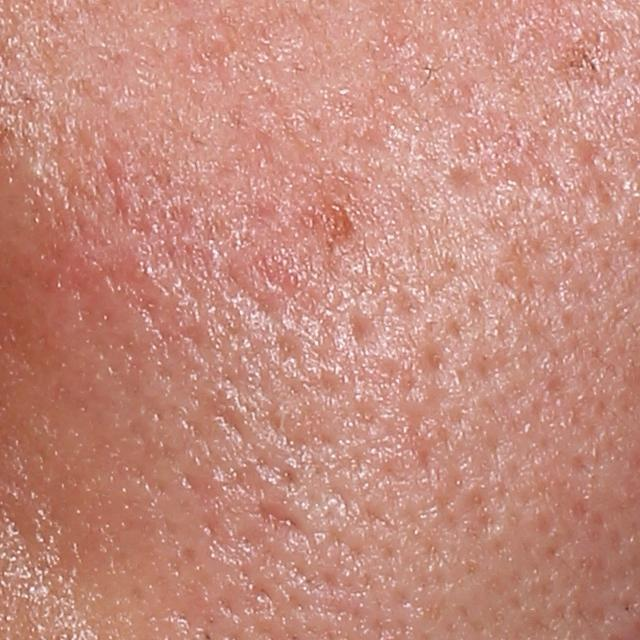atrophic_scar: (575, 140, 630, 214), (421, 337, 459, 385), (443, 165, 489, 198), (260, 501, 303, 534), (348, 311, 375, 347)
